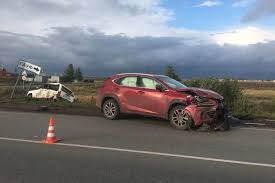car: (82, 60, 232, 140)
